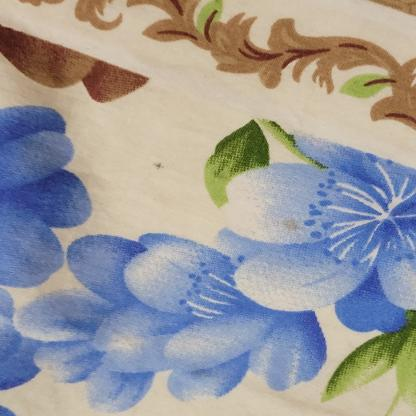spot: (275, 216, 302, 234), (147, 159, 172, 174)
